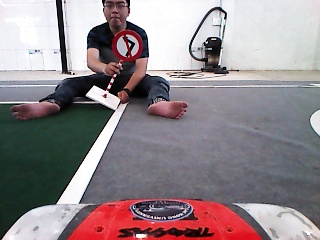ban: (111, 28, 146, 63)
